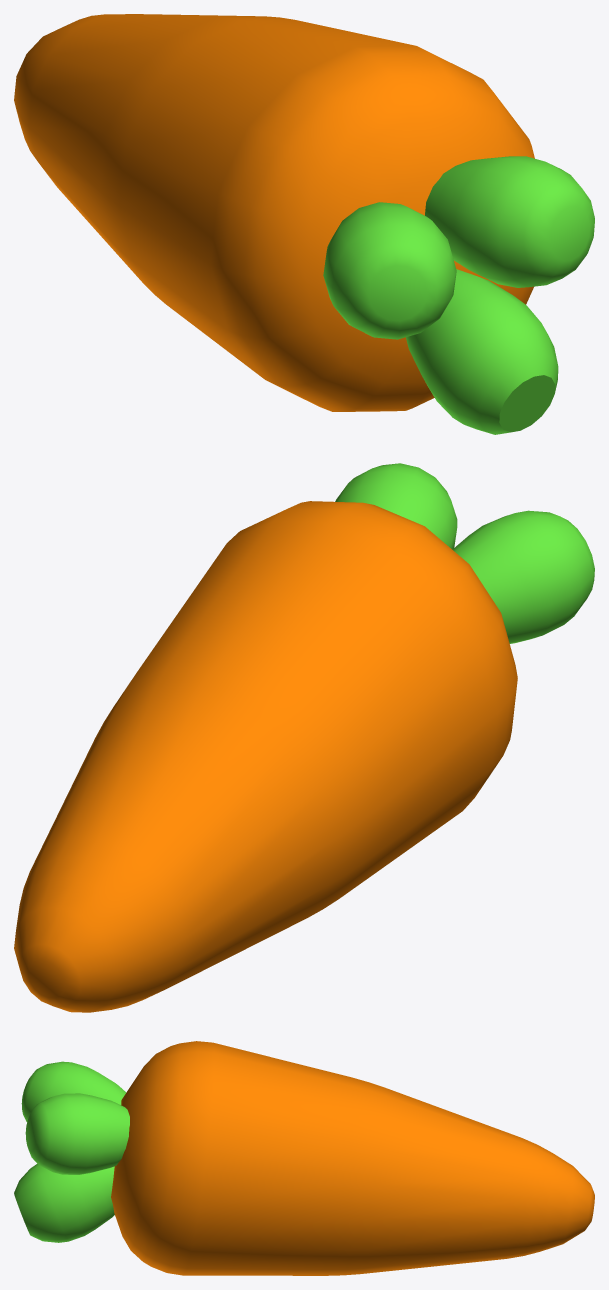
File: SM_Carrot.fbx
3 renders of one model, top to bottom at view 1: azimuth 30°, elevation 25°; view 2: azimuth 150°, elevation 25°; view 3: azimuth 270°, elevation 25°, orthographic. The views are drawn at different scales.
Parts seen in each view (by area): view 1: SM_Carrot; view 2: SM_Carrot; view 3: SM_Carrot.
Boxes of the visible parts, x1=… form: SM_Carrot: x1=14, y1=14, x2=594, y2=434; SM_Carrot: x1=14, y1=463, x2=594, y2=1012; SM_Carrot: x1=14, y1=1041, x2=594, y2=1275.
Bounding box in the file's own units: 44.82 × 46.83 × 114.
